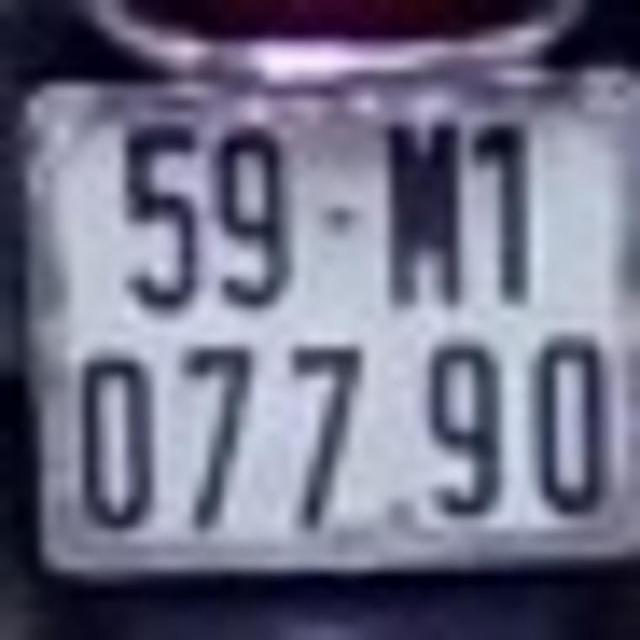0: (76, 344, 159, 531), (535, 327, 609, 519)
1: (474, 117, 537, 306)
5: (119, 117, 202, 314)
7: (283, 333, 366, 532), (176, 337, 256, 532)
9: (424, 334, 504, 520), (213, 122, 292, 310)
M: (384, 113, 465, 312)
